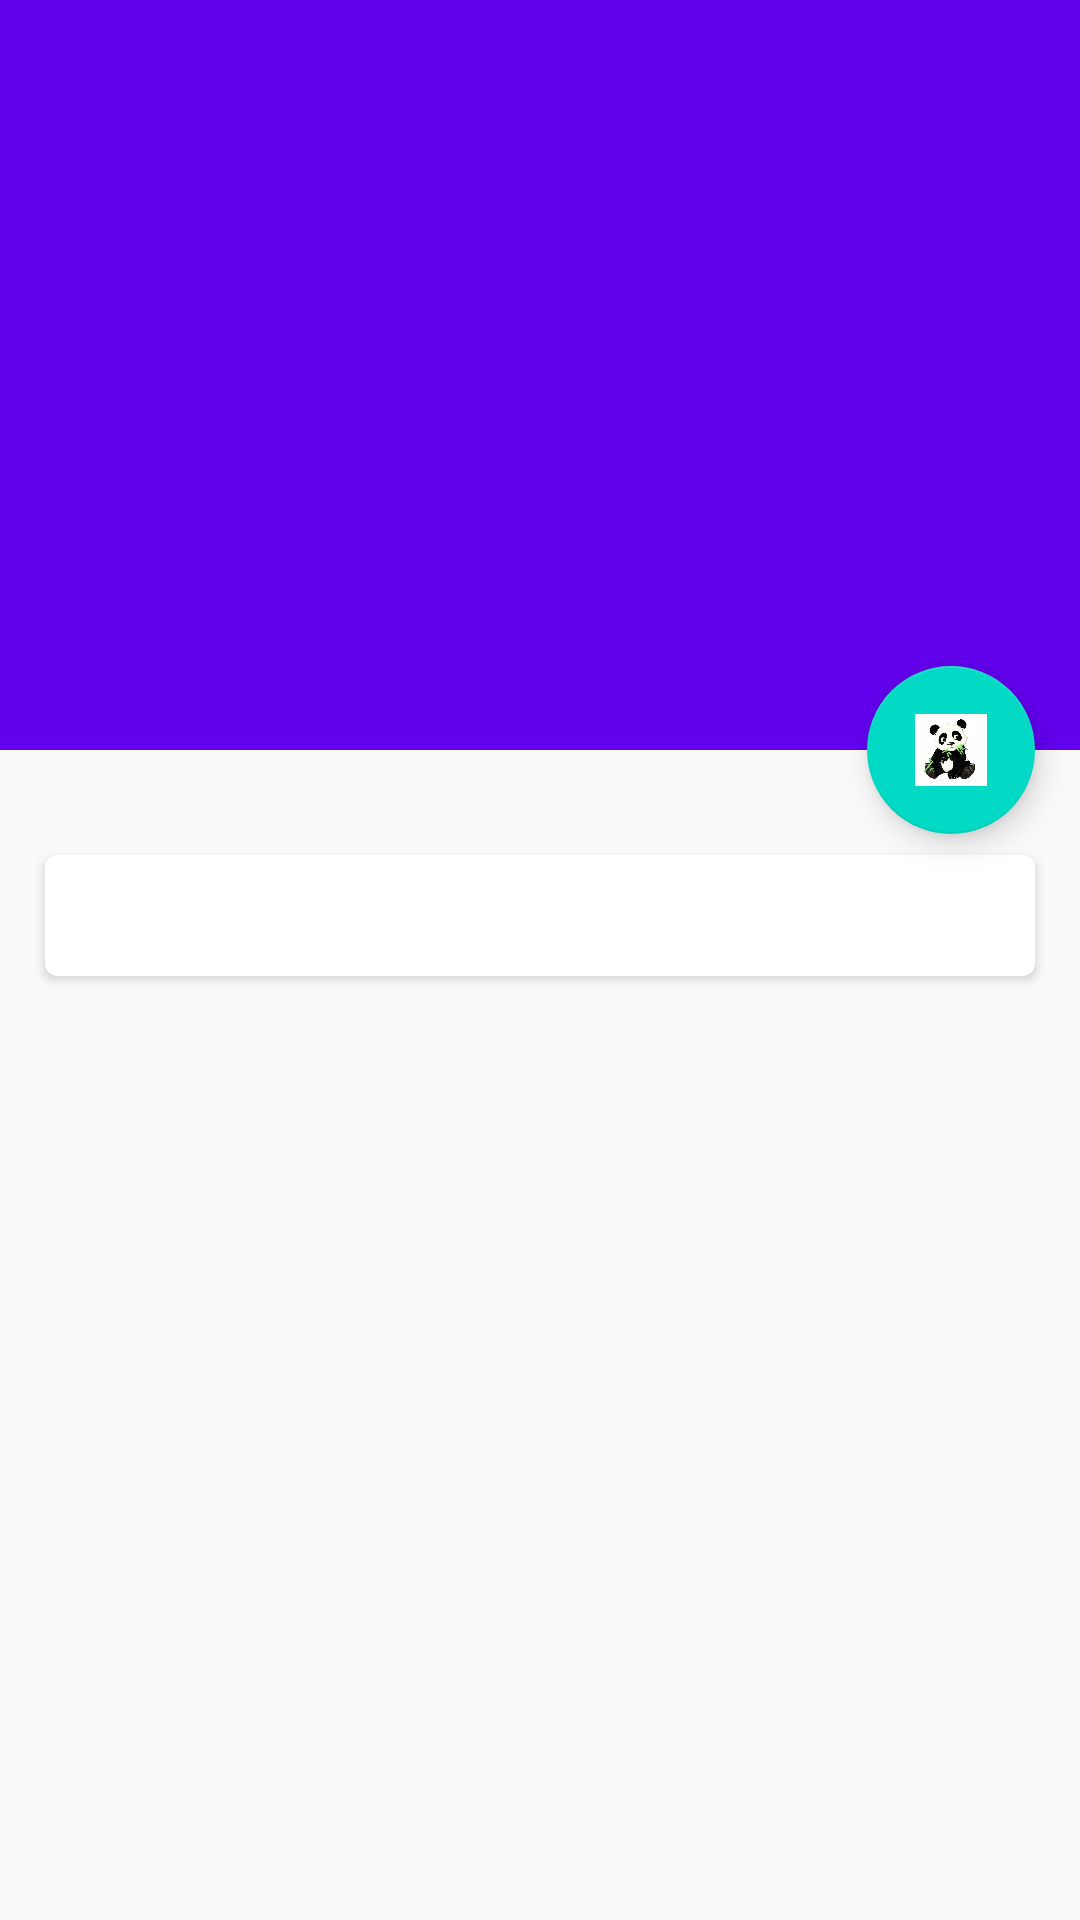

Icon click points for this 1080*1920 phone screenshot, format point (x, y):
xiongmao: point (951, 750)
